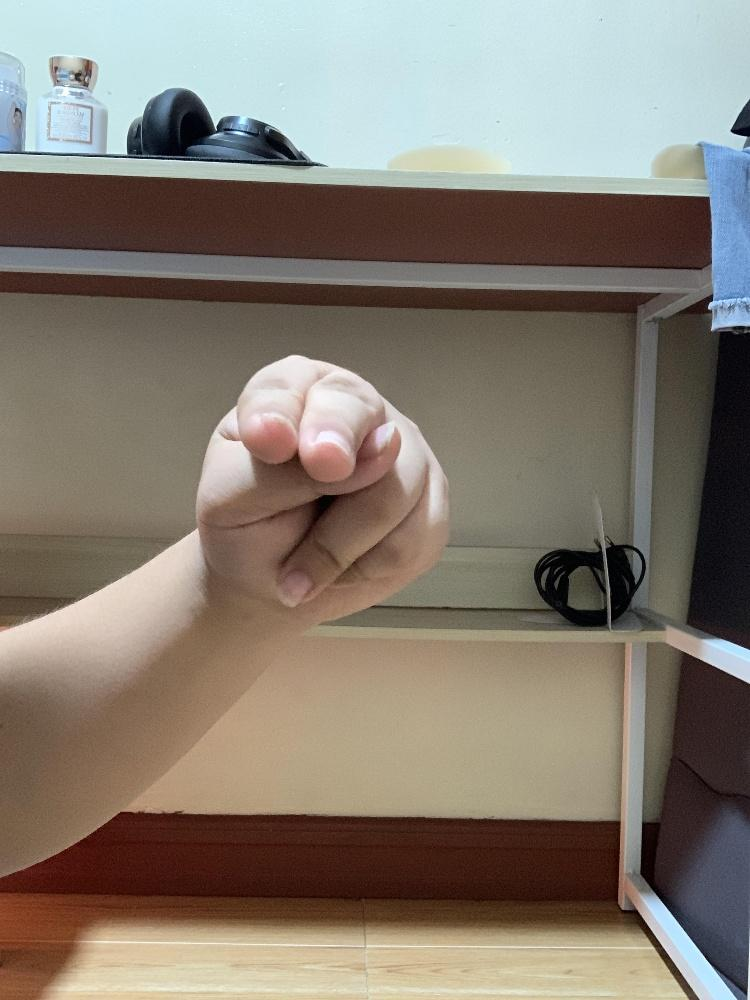n: (195, 352, 455, 629)
